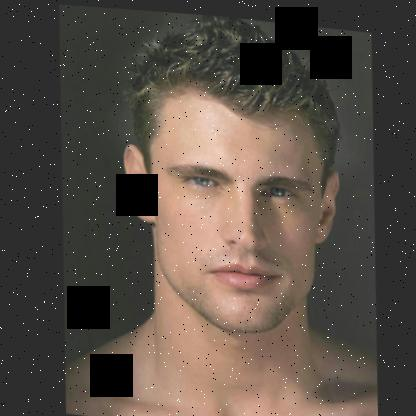Male: (114, 81, 349, 340)
